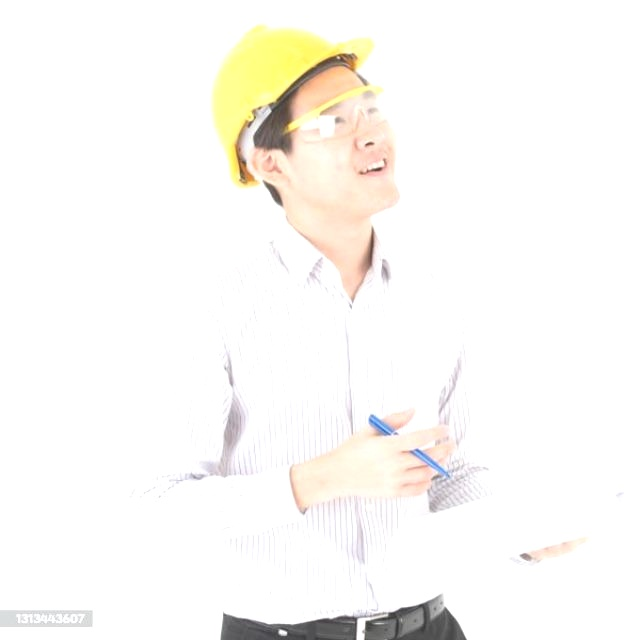Con_Casco: (210, 21, 405, 218)
Sin_Chaleco: (175, 234, 480, 619)
